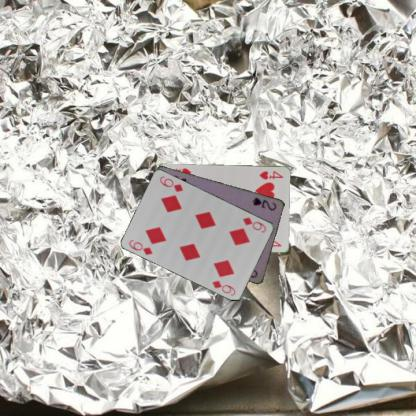2s: (250, 194, 278, 212)
4h: (257, 168, 284, 181)
6d: (240, 214, 268, 234), (127, 237, 154, 256)
